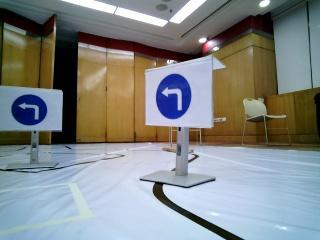left: (149, 72, 204, 123), (9, 90, 49, 125)
